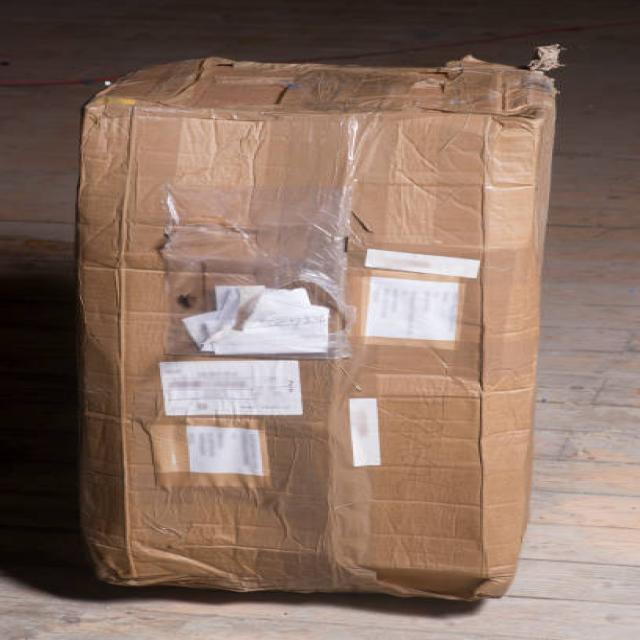electronic: (74, 54, 558, 602), (180, 284, 331, 356), (157, 359, 303, 416), (148, 422, 272, 489), (359, 275, 461, 341), (184, 424, 265, 476), (362, 248, 480, 278), (346, 398, 379, 467)
